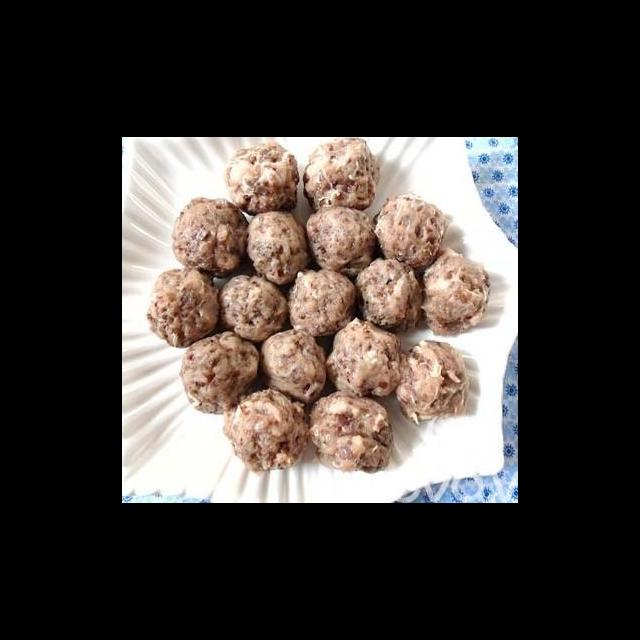vien moc: (219, 383, 314, 478), (301, 389, 403, 476), (177, 326, 265, 420), (393, 336, 480, 426), (321, 312, 405, 402), (169, 195, 253, 283), (144, 266, 228, 354), (414, 252, 497, 339), (254, 325, 335, 408), (370, 193, 456, 271), (220, 139, 303, 219), (240, 202, 313, 292), (296, 138, 382, 214), (281, 264, 360, 341), (213, 270, 293, 344), (353, 255, 423, 334), (303, 203, 380, 274)
